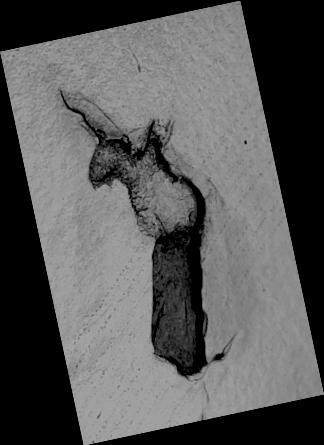paint-off: (1, 1, 324, 445)
